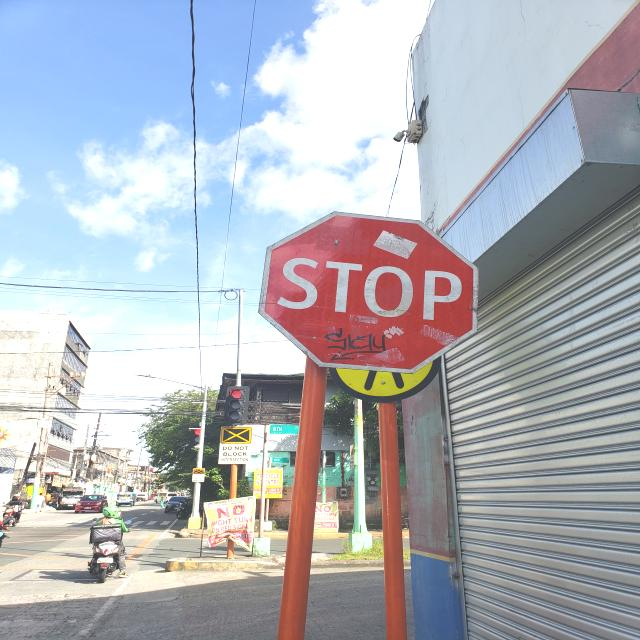stop-sign: (258, 210, 480, 374)
